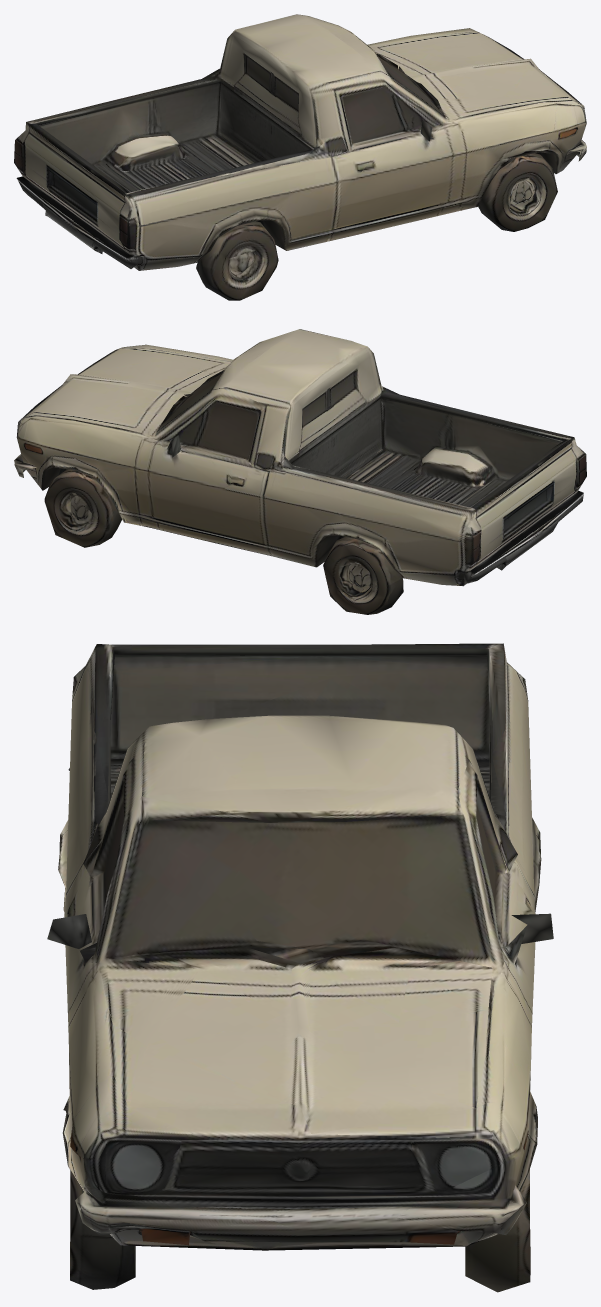
The model's file is pickup truck 3d model.glb.
3 views of the same model, one above another, from view 1: azimuth 30°, elevation 25°; view 2: azimuth 150°, elevation 25°; view 3: azimuth 270°, elevation 25° (orthographic). The views are drawn at different scales.
Visible parts, largest first — view 1: tripo_node_802d6072-261c-43d1-8b47-e141bb34f0c9; view 2: tripo_node_802d6072-261c-43d1-8b47-e141bb34f0c9; view 3: tripo_node_802d6072-261c-43d1-8b47-e141bb34f0c9.
Boxes of the visible parts, bbox=[...] form: tripo_node_802d6072-261c-43d1-8b47-e141bb34f0c9: bbox=[14, 14, 586, 300]; tripo_node_802d6072-261c-43d1-8b47-e141bb34f0c9: bbox=[14, 329, 586, 614]; tripo_node_802d6072-261c-43d1-8b47-e141bb34f0c9: bbox=[47, 643, 553, 1292].
Bounding box in the file's own units: 0.9997 × 0.3768 × 0.4614.
Materials: 1 (1 with a texture image).
